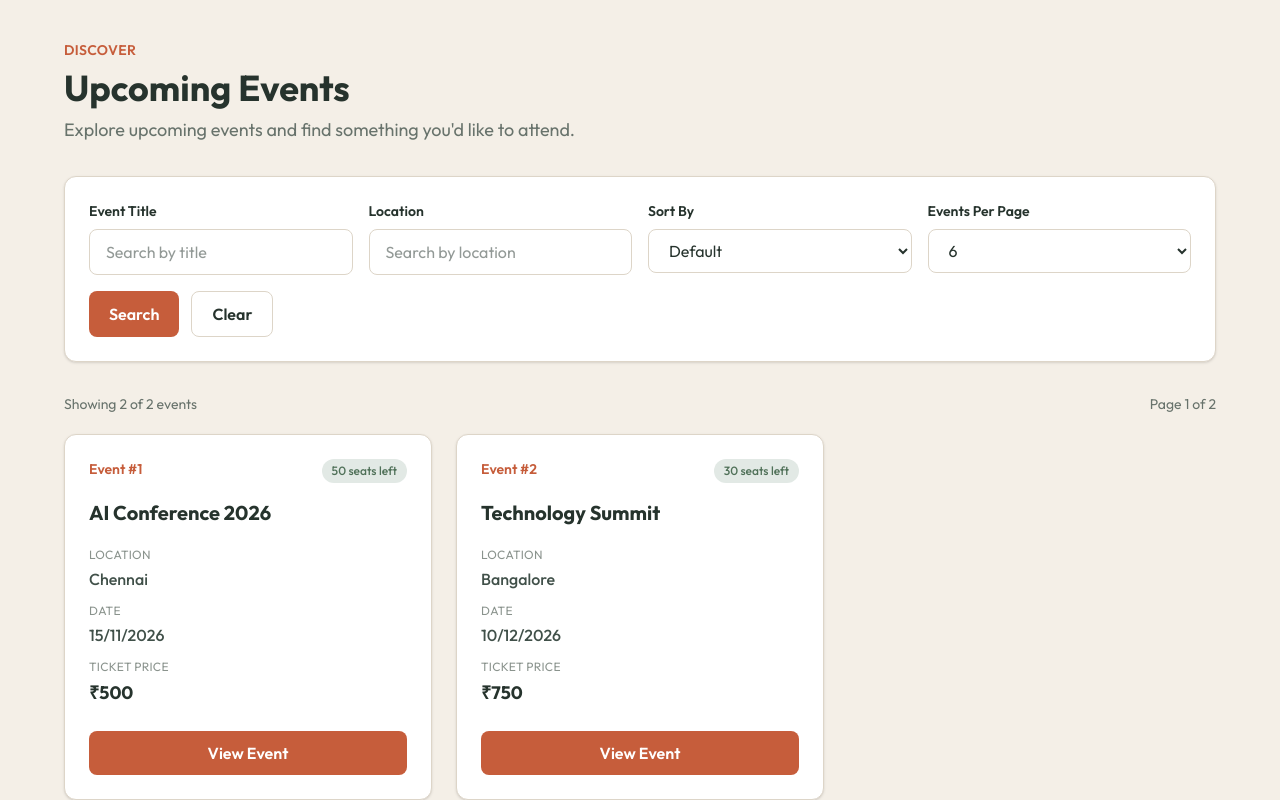
it: EventsPage › clears search filters
In the field with placeholder "Search by title": (221, 252) [89, 229, 352, 275], type "AI Conference"
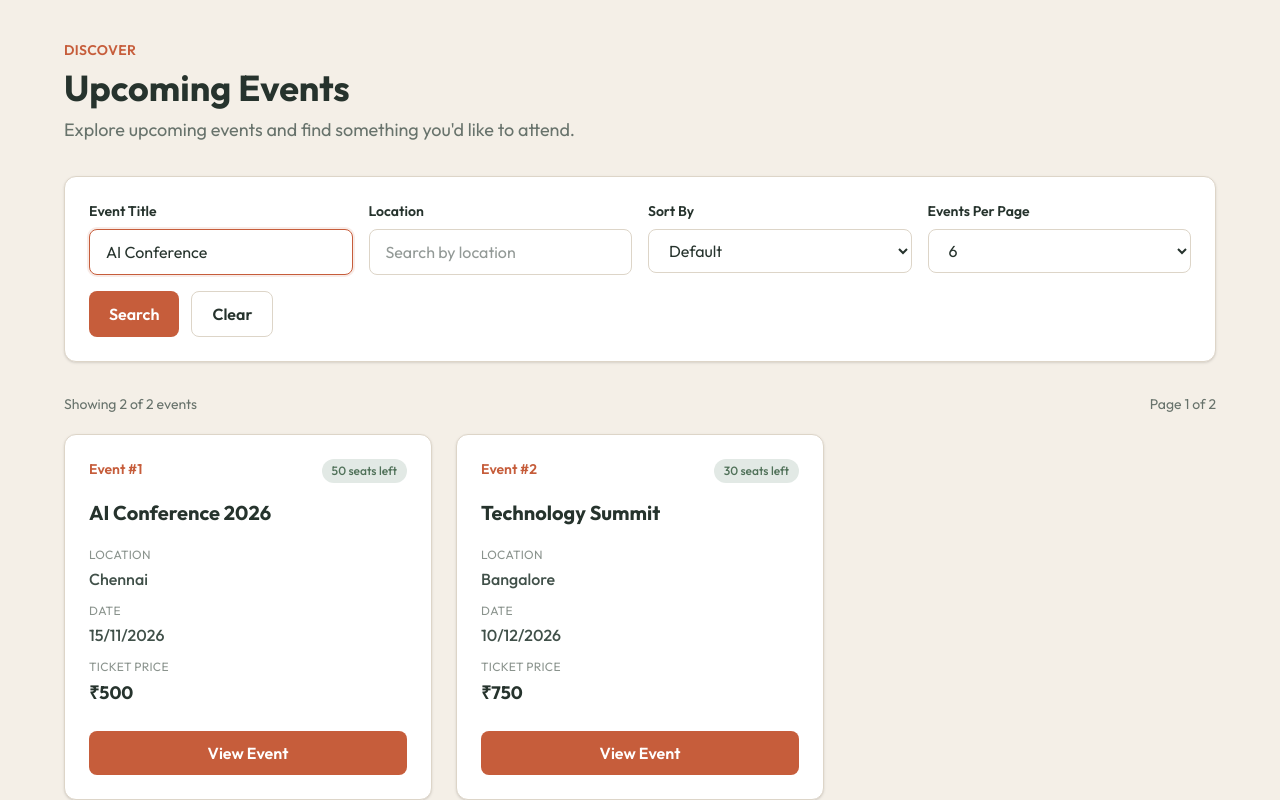
In the field with placeholder "Search by location": (500, 252) [368, 229, 632, 275], type "Chennai"
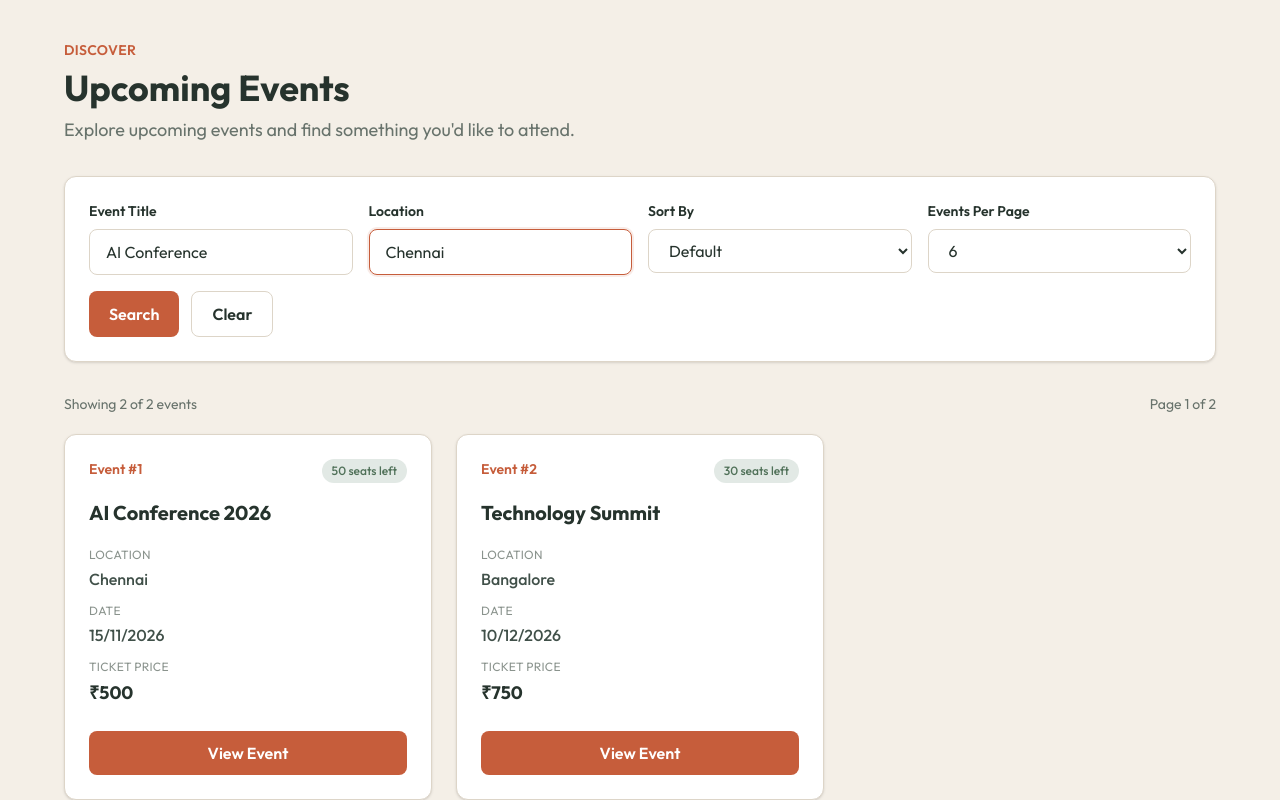
Click the button "Clear": (232, 314) [191, 291, 273, 337]
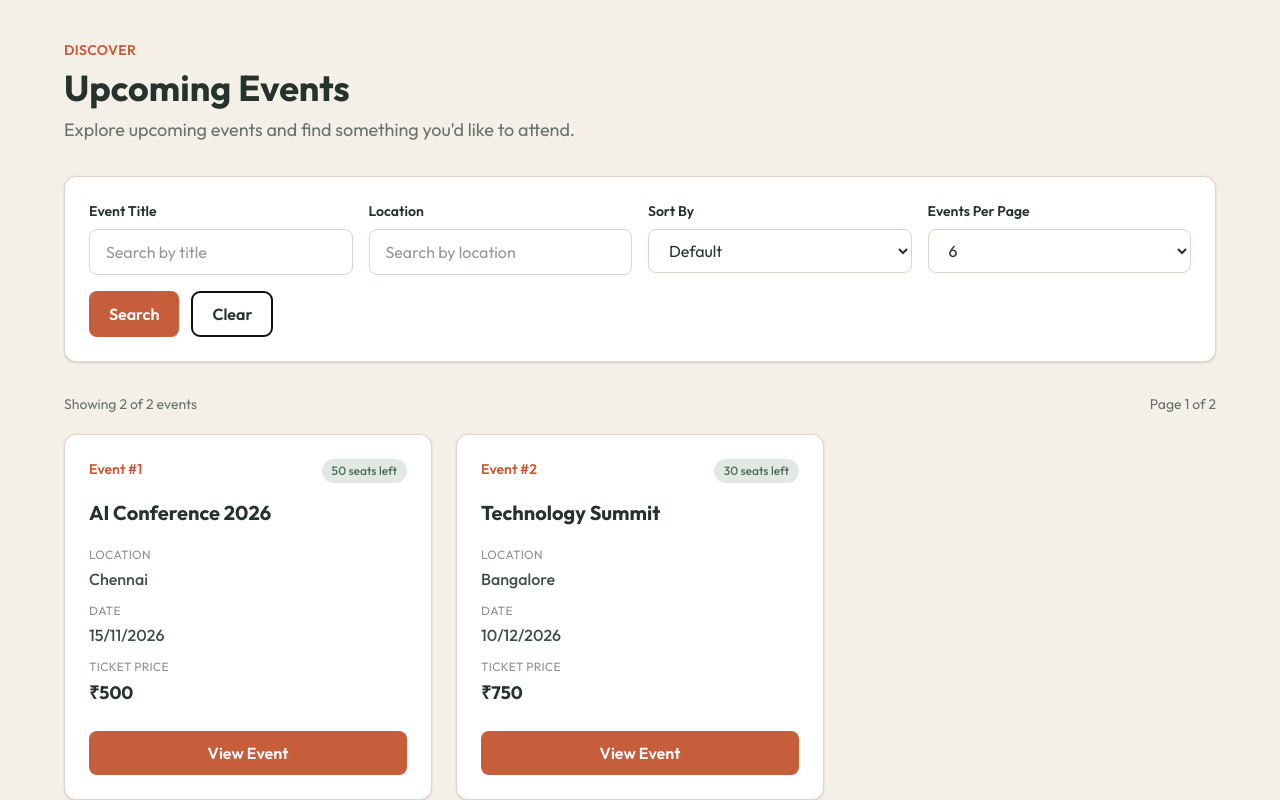
Check: the dropdown below "Sort By" shows "Default", box [648, 229, 912, 273]
Check: the field with placeholder "Search by title" is empty, box [89, 229, 352, 275]
Check: the field with placeholder "Search by location" is empty, box [368, 229, 632, 275]
